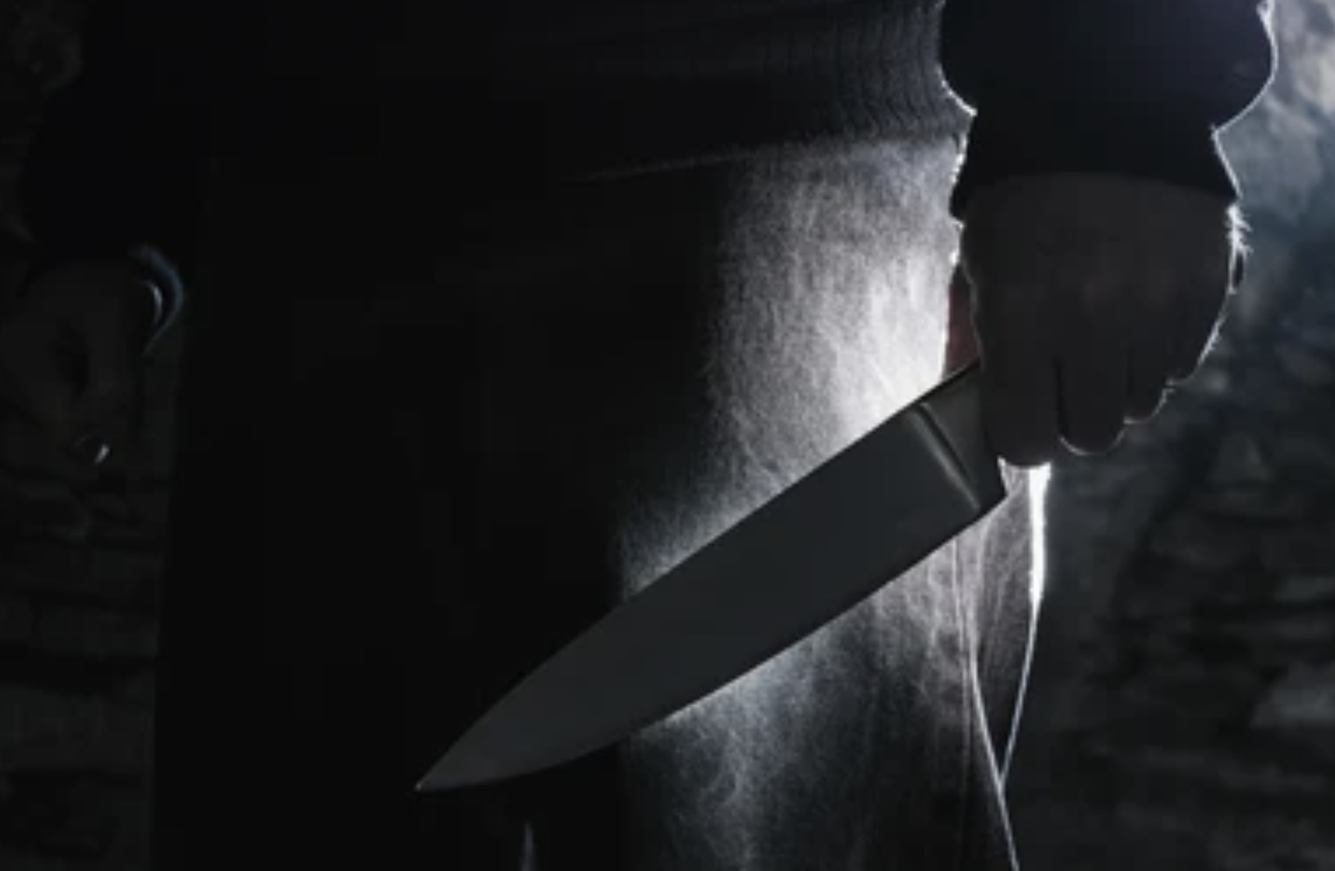knife_54.png: (399, 313, 1038, 800)
